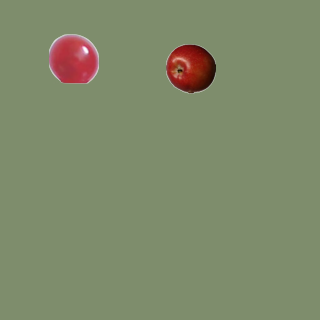Apple Braeburn: (165, 43, 215, 93)
Redcurrant: (48, 33, 98, 83)
